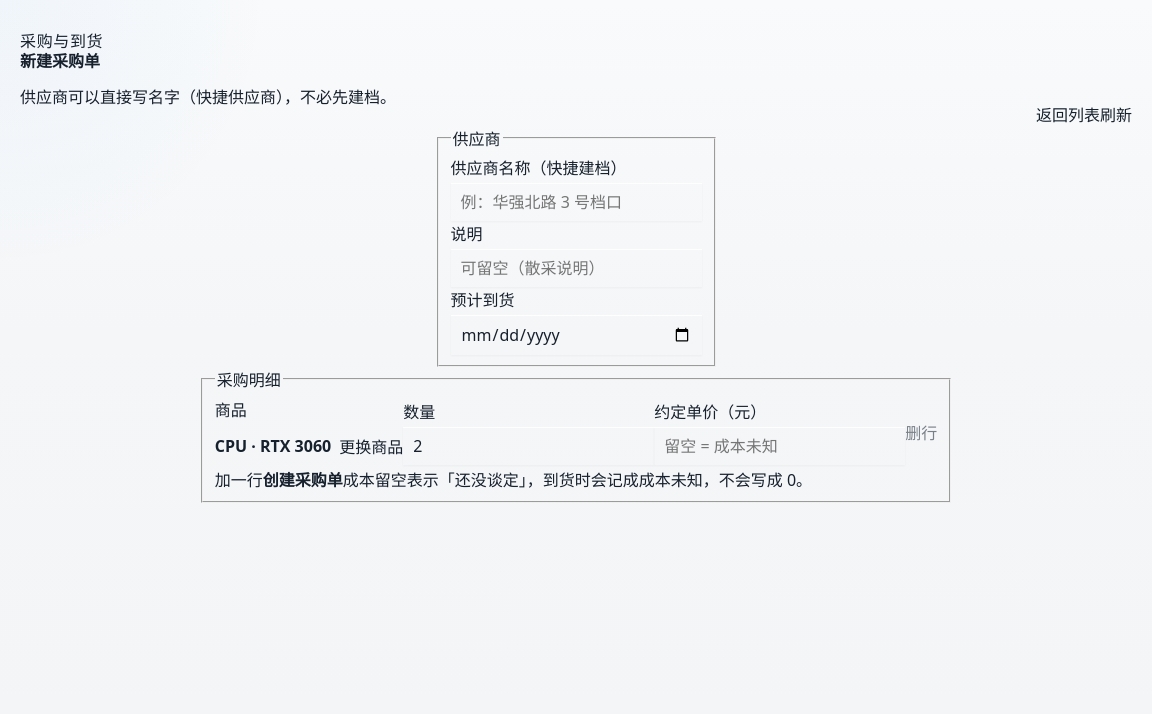
Test case: 采购页 · 未知写入结果恢复 › 从配件登记转入时带入型号、数量、成色、SN 和说明
The width and height of the screenshot is (1152, 714).
Expected: the text "CPU · RTX 3060" is shown, [215,435,331,457]
Expected: the element showing "CPU · RTX 3060 更换商品" holds "product-1", [215,434,403,458]
In the field labelled "供应商名称（快捷建档）": (576, 202) [450,183,702,221], type "档口"
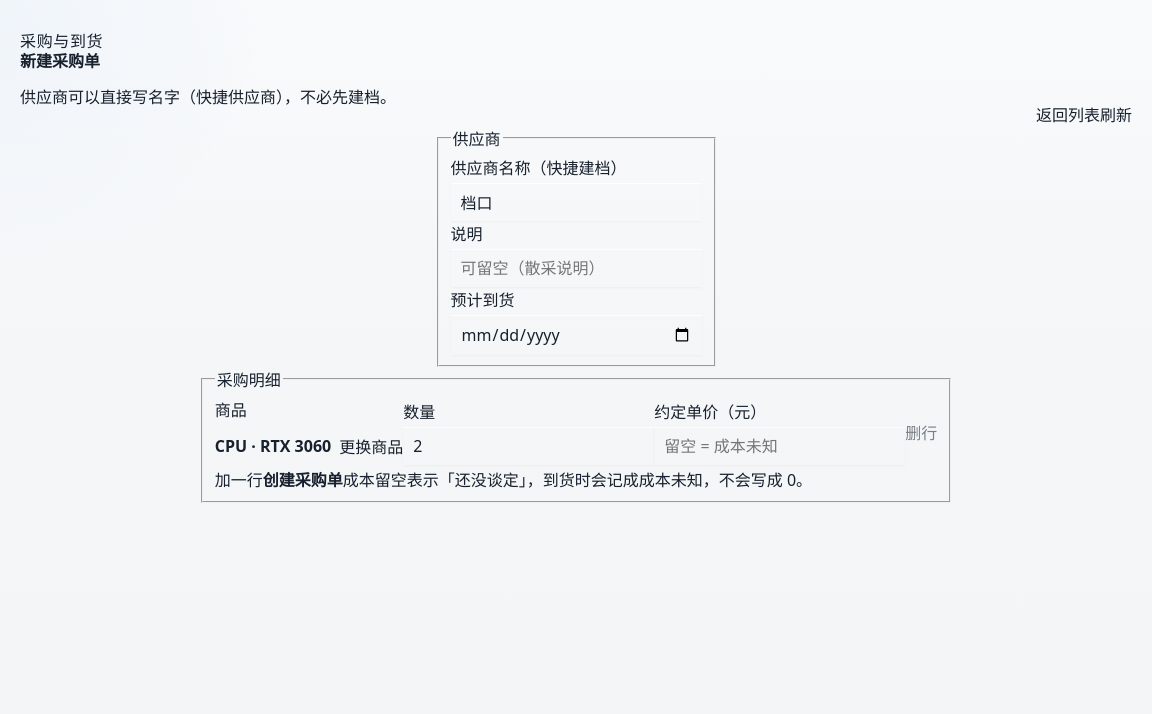
Click the button "创建采购单": (303, 479) [263,467,343,491]
(page scrolled)
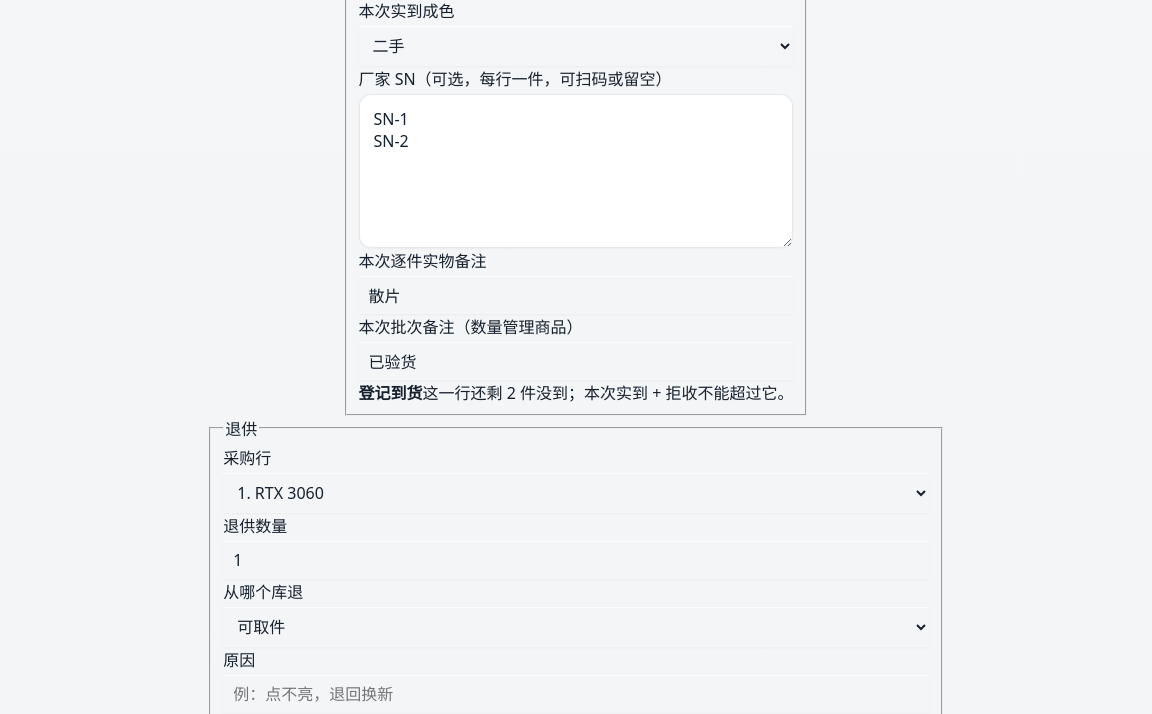
Expected: the dropdown labelled "本次实到成色" shows "二手", [358,26,794,66]
Expected: the field labelled "本次逐件实物备注" holds "散片", [358,276,794,314]
Expected: the field labelled "本次批次备注（数量管理商品）" holds "已验货", [358,342,794,380]
